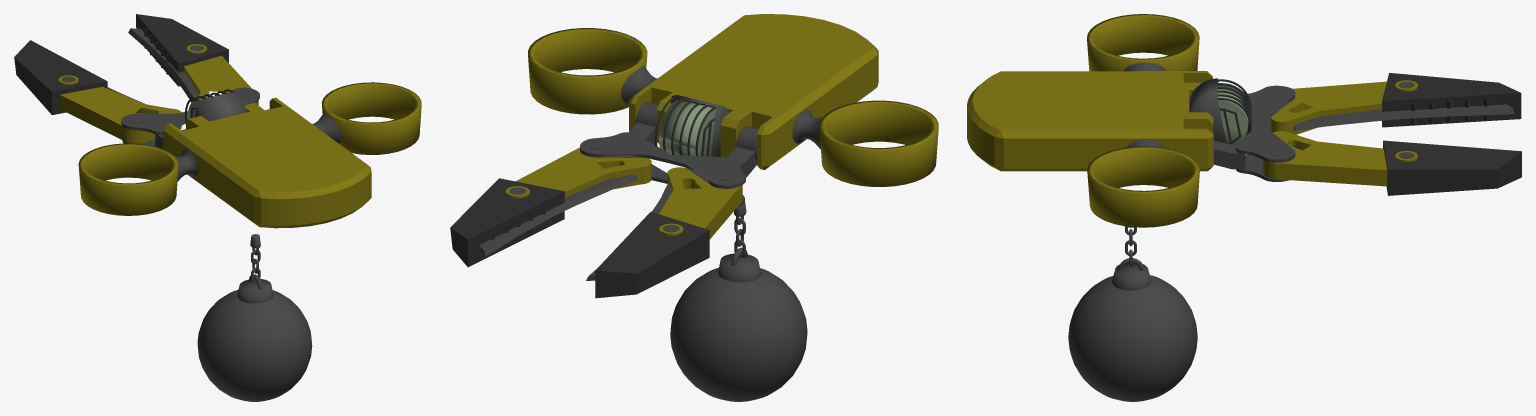
Rendered from Wrecking Cloud Machine-fbx.fbx.
The picture shows the model from 3 angles, left to right: view 1: azimuth 30°, elevation 25°; view 2: azimuth 150°, elevation 25°; view 3: azimuth 270°, elevation 25°; orthographic projection. The views are drawn at different scales.
Visible parts, largest first — view 1: Vehicle BODY, Wrecking Ball, Prop Left, Prop Right, Jaw tip left, jaw arm, Jaw tip right, jaw arm right, JAW HOLDER LOWER, Smash_Sheild, Blade right, WB cap (+2 smaller); view 2: Vehicle BODY, Wrecking Ball, Prop Left, Prop Right, Jaw tip left, JAW HOLDER LOWER, Jaw tip right, jaw arm right, jaw arm, Blade right, glass door, Cage (+5 smaller); view 3: Vehicle BODY, Wrecking Ball, Prop Right, Jaw tip right, Prop Left, Jaw tip left, jaw arm right, JAW HOLDER LOWER, jaw arm, Blade left, Smash_Sheild, Cage (+2 smaller).
Part boxes in pixels (box(x1,y1,x2,y2)): Vehicle BODY: box(163, 97, 371, 228); Wrecking Ball: box(197, 289, 312, 401); Prop Left: box(78, 143, 178, 215); Prop Right: box(321, 82, 421, 154); Jaw tip left: box(14, 40, 107, 115); jaw arm: box(60, 86, 181, 143); Jaw tip right: box(136, 14, 228, 86); jaw arm right: box(184, 55, 258, 105); JAW HOLDER LOWER: box(121, 87, 272, 148); Smash_Sheild: box(197, 92, 246, 121); Blade right: box(128, 28, 199, 102); WB cap: box(237, 279, 273, 303); Vehicle BODY: box(629, 14, 878, 169); Wrecking Ball: box(670, 268, 807, 401); Prop Left: box(819, 100, 938, 186); Prop Right: box(528, 28, 647, 114); Jaw tip left: box(595, 212, 709, 298); JAW HOLDER LOWER: box(580, 102, 758, 207); Jaw tip right: box(450, 178, 564, 267); jaw arm right: box(515, 147, 651, 197); jaw arm: box(659, 167, 742, 239); Blade right: box(479, 174, 637, 256); glass door: box(658, 100, 715, 148); Cage: box(655, 97, 716, 156); Vehicle BODY: box(967, 71, 1213, 171); Wrecking Ball: box(1068, 275, 1197, 401); Prop Right: box(1087, 146, 1199, 227); Jaw tip right: box(1383, 140, 1521, 195); Prop Left: box(1087, 14, 1199, 71); Jaw tip left: box(1382, 73, 1521, 127); jaw arm right: box(1262, 131, 1387, 186); JAW HOLDER LOWER: box(1196, 82, 1295, 181); jaw arm: box(1270, 81, 1386, 134); Blade left: box(1293, 104, 1514, 130); Smash_Sheild: box(1189, 78, 1226, 143); Cage: box(1217, 79, 1251, 144).
Size of the model in its own units: 1909 by 1508 by 2466.
